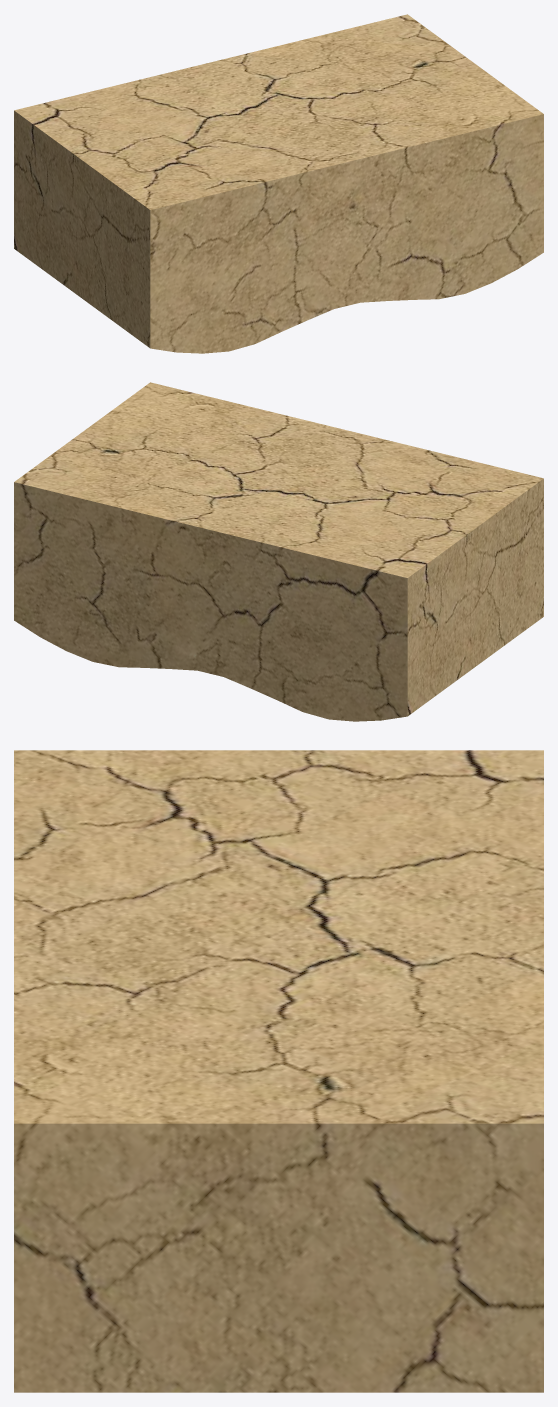
The model's file is plataformaCamelloFragemento.fbx.
3 renders of one model, top to bottom at view 1: azimuth 30°, elevation 25°; view 2: azimuth 150°, elevation 25°; view 3: azimuth 270°, elevation 25°, orthographic. The views are drawn at different scales.
Visible parts, largest first — view 1: plataformaCamelloFragemento; view 2: plataformaCamelloFragemento; view 3: plataformaCamelloFragemento.
Part boxes in pixels (x1,y1,x2,y2): plataformaCamelloFragemento: [14, 14, 543, 353]; plataformaCamelloFragemento: [14, 382, 543, 721]; plataformaCamelloFragemento: [14, 750, 543, 1392].
Size of the model in its own units: 5 by 1.95 by 3.
1 material, 1 textured.
